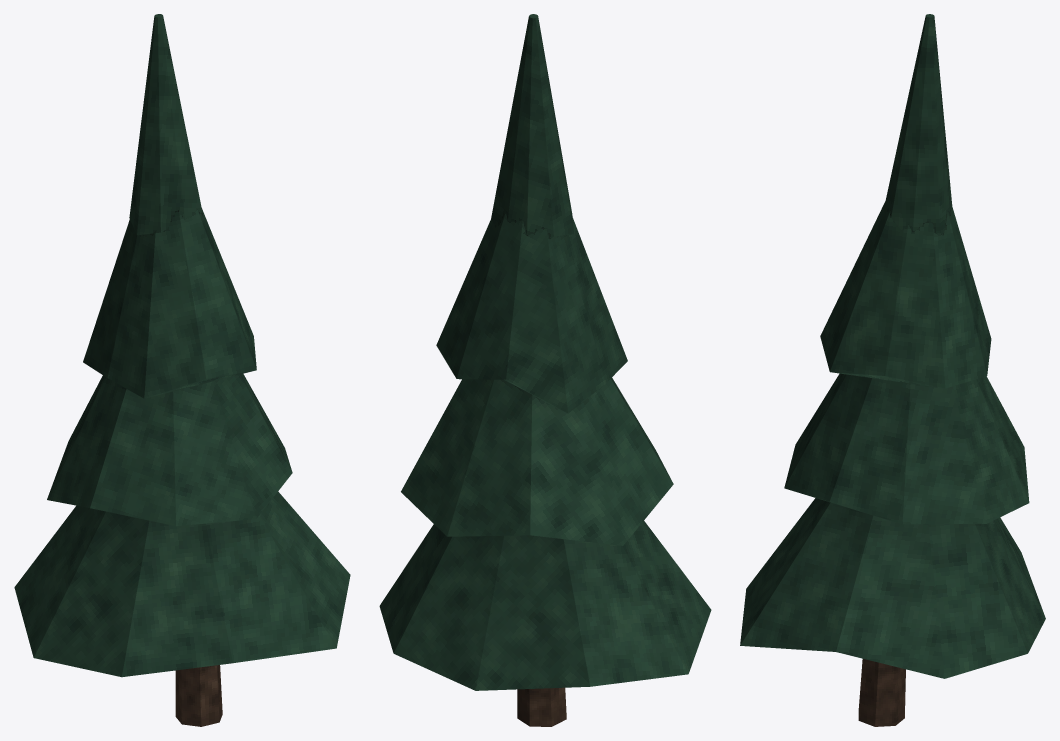
The model's file is snow_pine_c.glb.
The picture shows the model from 3 angles, left to right: view 1: azimuth 30°, elevation 25°; view 2: azimuth 150°, elevation 25°; view 3: azimuth 270°, elevation 25°; orthographic projection. The views are drawn at different scales.
Parts seen in each view (by area): view 1: snow_pine_c; view 2: snow_pine_c; view 3: snow_pine_c.
Boxes of the visible parts, box(x1,y1,x2,y2) form: snow_pine_c: box(14, 14, 350, 726); snow_pine_c: box(379, 14, 711, 726); snow_pine_c: box(740, 14, 1045, 726).
Size of the model in its own units: 1.88 by 4.4 by 1.76.
Materials: 2 (2 with a texture image).
